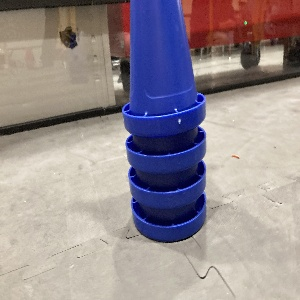Blue_4: (120, 0, 206, 242)
